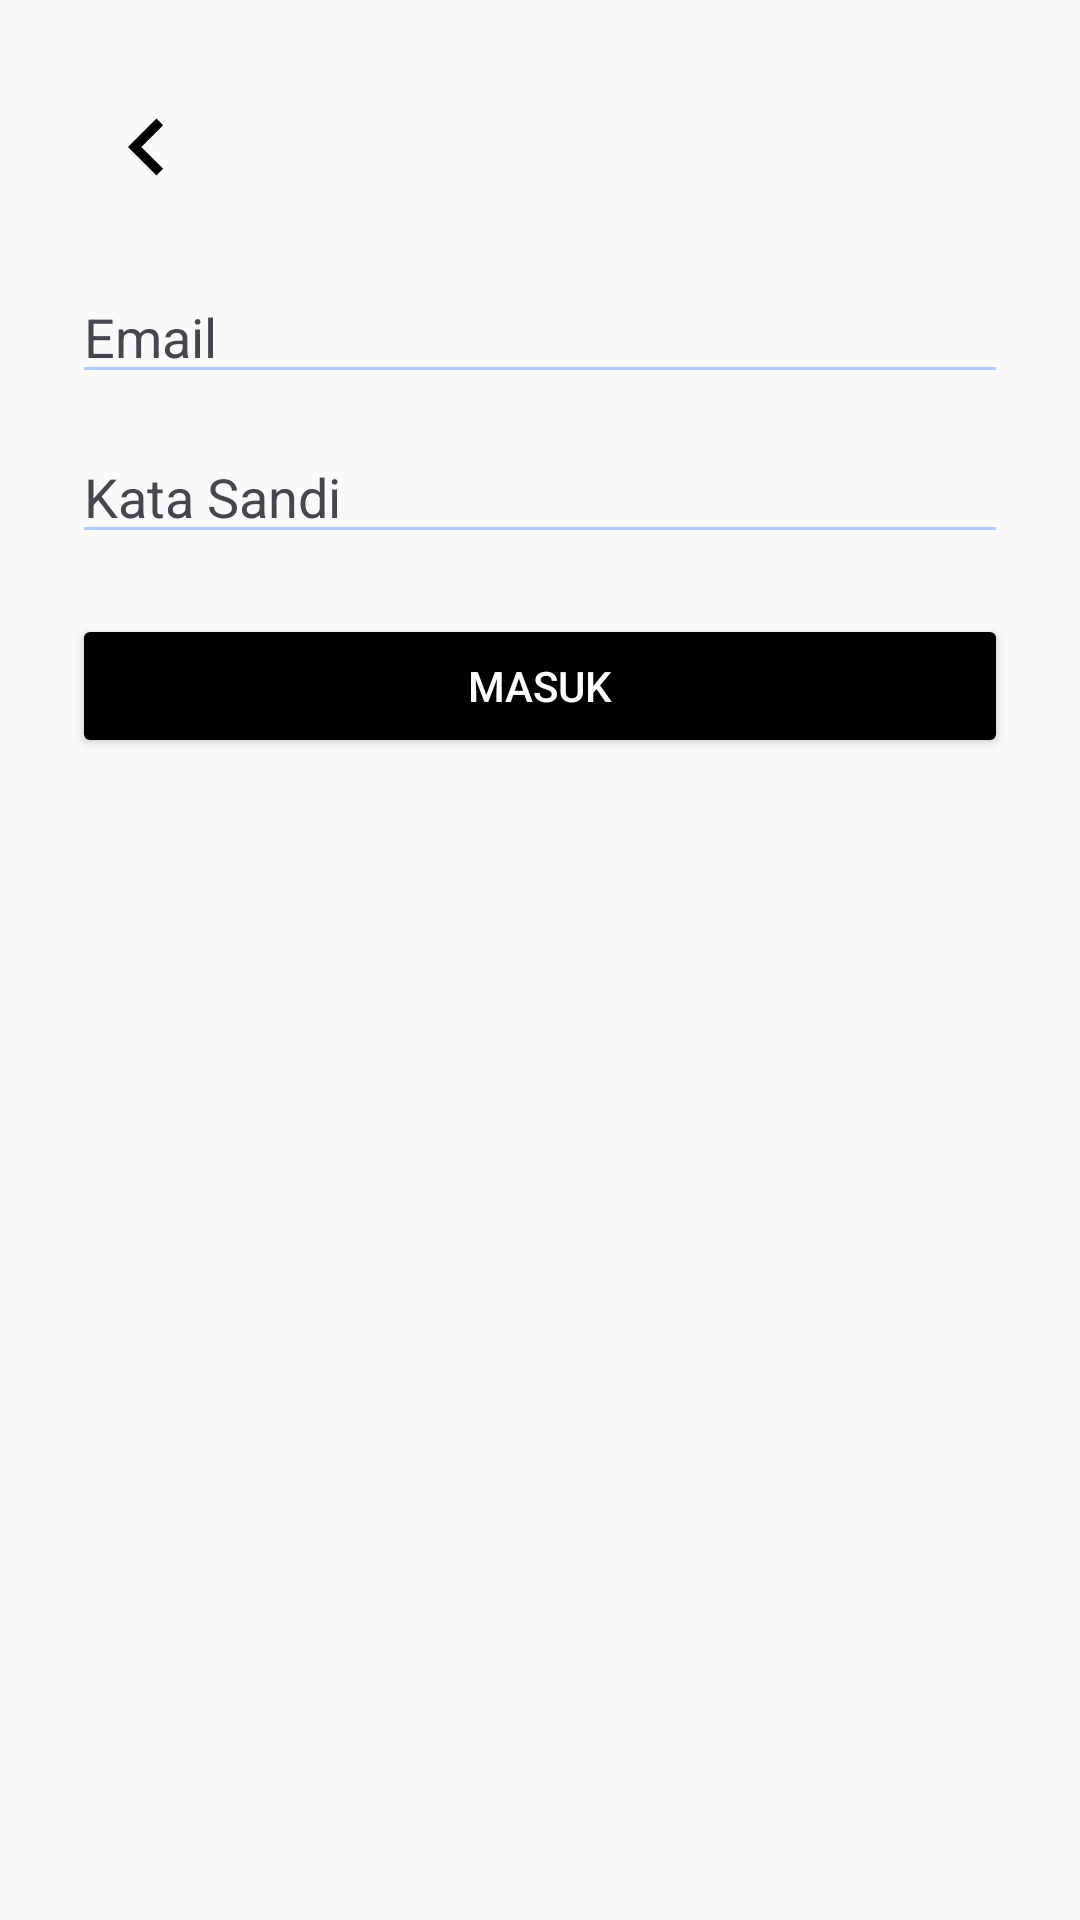

Screen size 1080w x 1920h. Icon name, then its center in pixels as [x,y]:
Kembali: [145,147]
